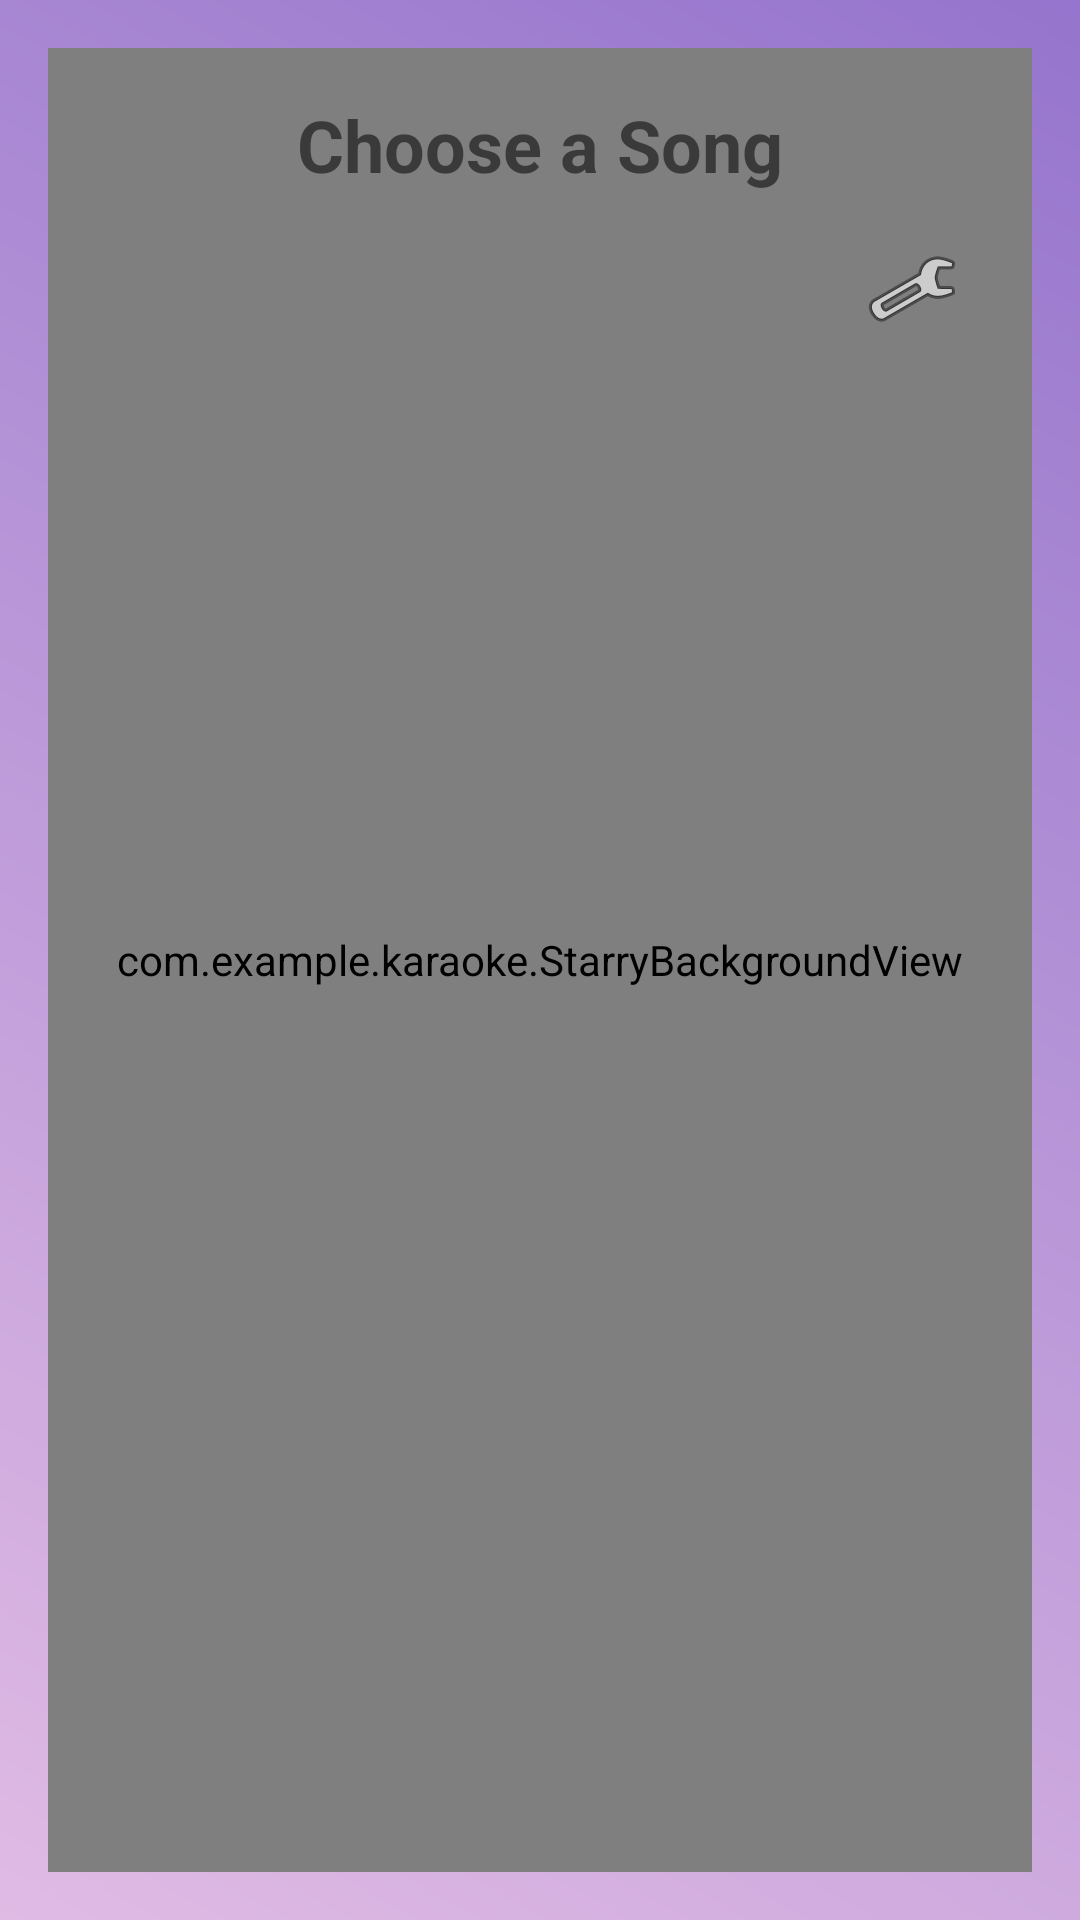

Named icons in this screenshot (1080w x 1920h) and their bounding boxes, [x1, y1, x2, y2]:
Settings: [869, 256, 955, 322]
